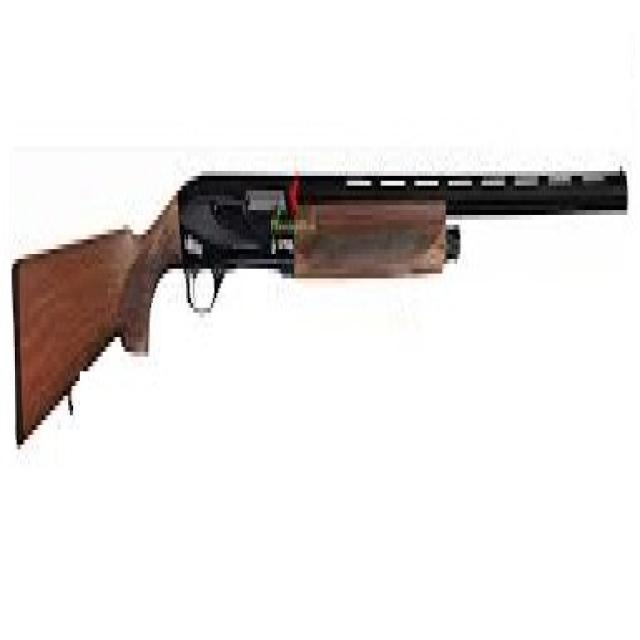rifle: (7, 135, 635, 464)
